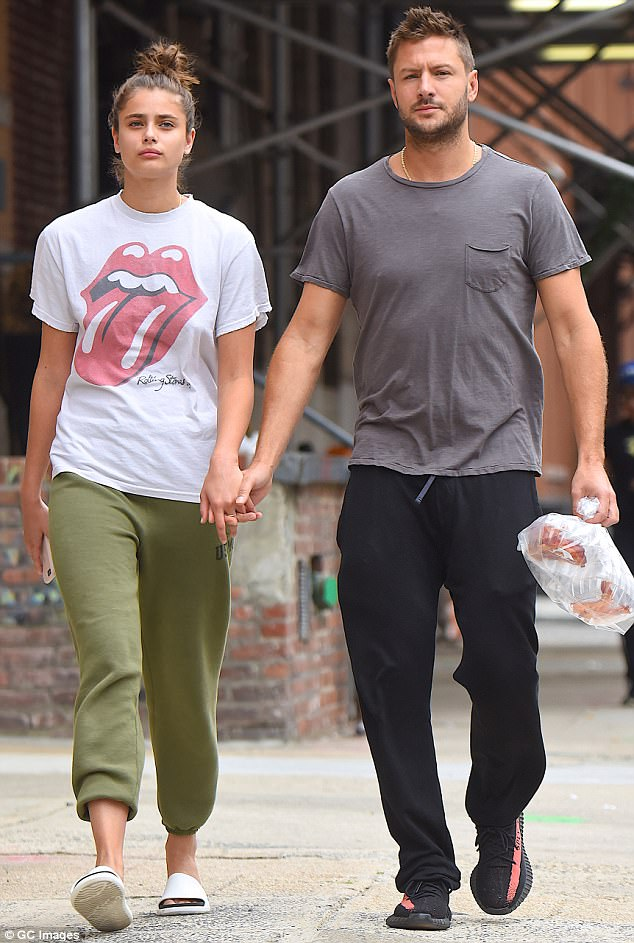Person: (209, 6, 634, 931), (22, 39, 264, 931)
